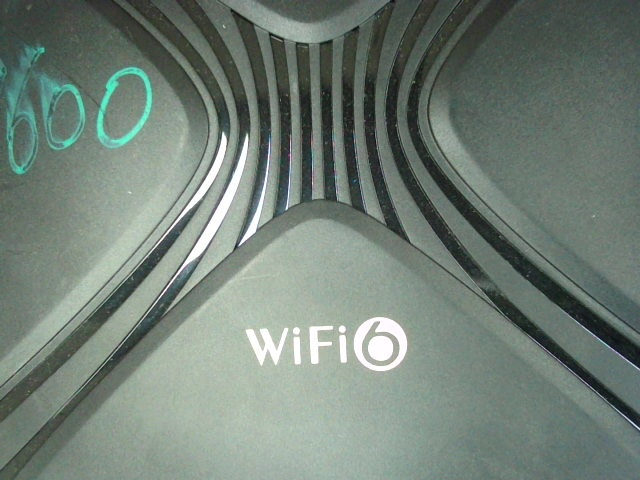AK_ZTEWIFI6Black: (237, 310, 422, 381)
